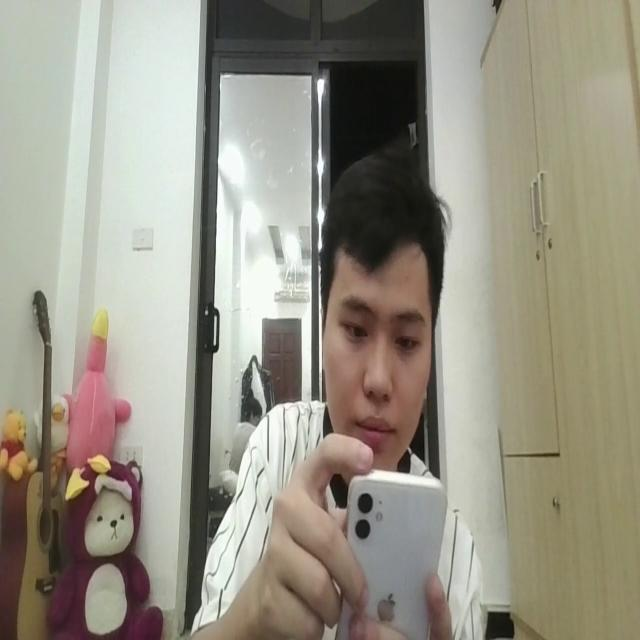phone: (336, 455, 446, 640)
student: (186, 146, 495, 640)
